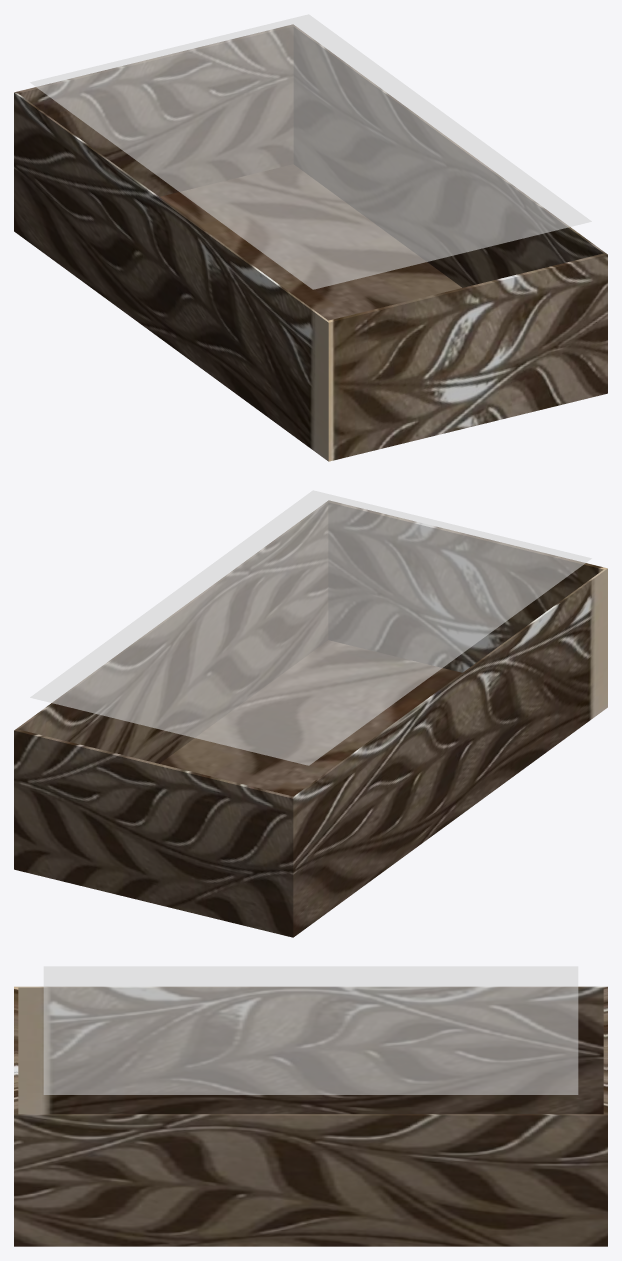
Rendered from Model18Third.gltf.
The picture shows the model from 3 angles, top to bottom: view 1: azimuth 30°, elevation 25°; view 2: azimuth 150°, elevation 25°; view 3: azimuth 270°, elevation 25°; orthographic projection. The views are drawn at different scales.
Visible parts, largest first — view 1: Cube, Plane; view 2: Cube, Plane; view 3: Cube, Plane.
Boxes of the visible parts, left/top/right/bottom form: Cube: left=14, top=24, right=607, bottom=461; Plane: left=30, top=14, right=591, bottom=289; Cube: left=14, top=500, right=607, bottom=937; Plane: left=30, top=490, right=591, bottom=765; Cube: left=14, top=986, right=607, bottom=1246; Plane: left=43, top=966, right=578, bottom=1094.
Size of the model in its own units: 2 by 1.1 by 3.9.
Materials: 2 (1 with a texture image).
